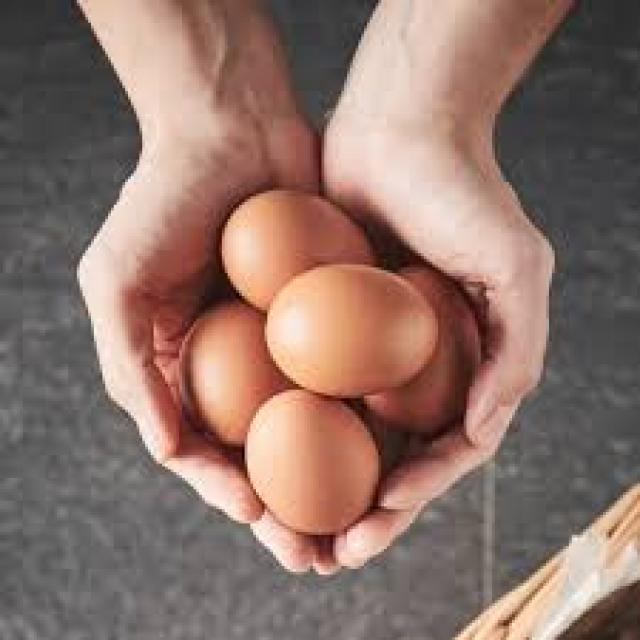Egg: (267, 265, 441, 398), (245, 393, 381, 538)
